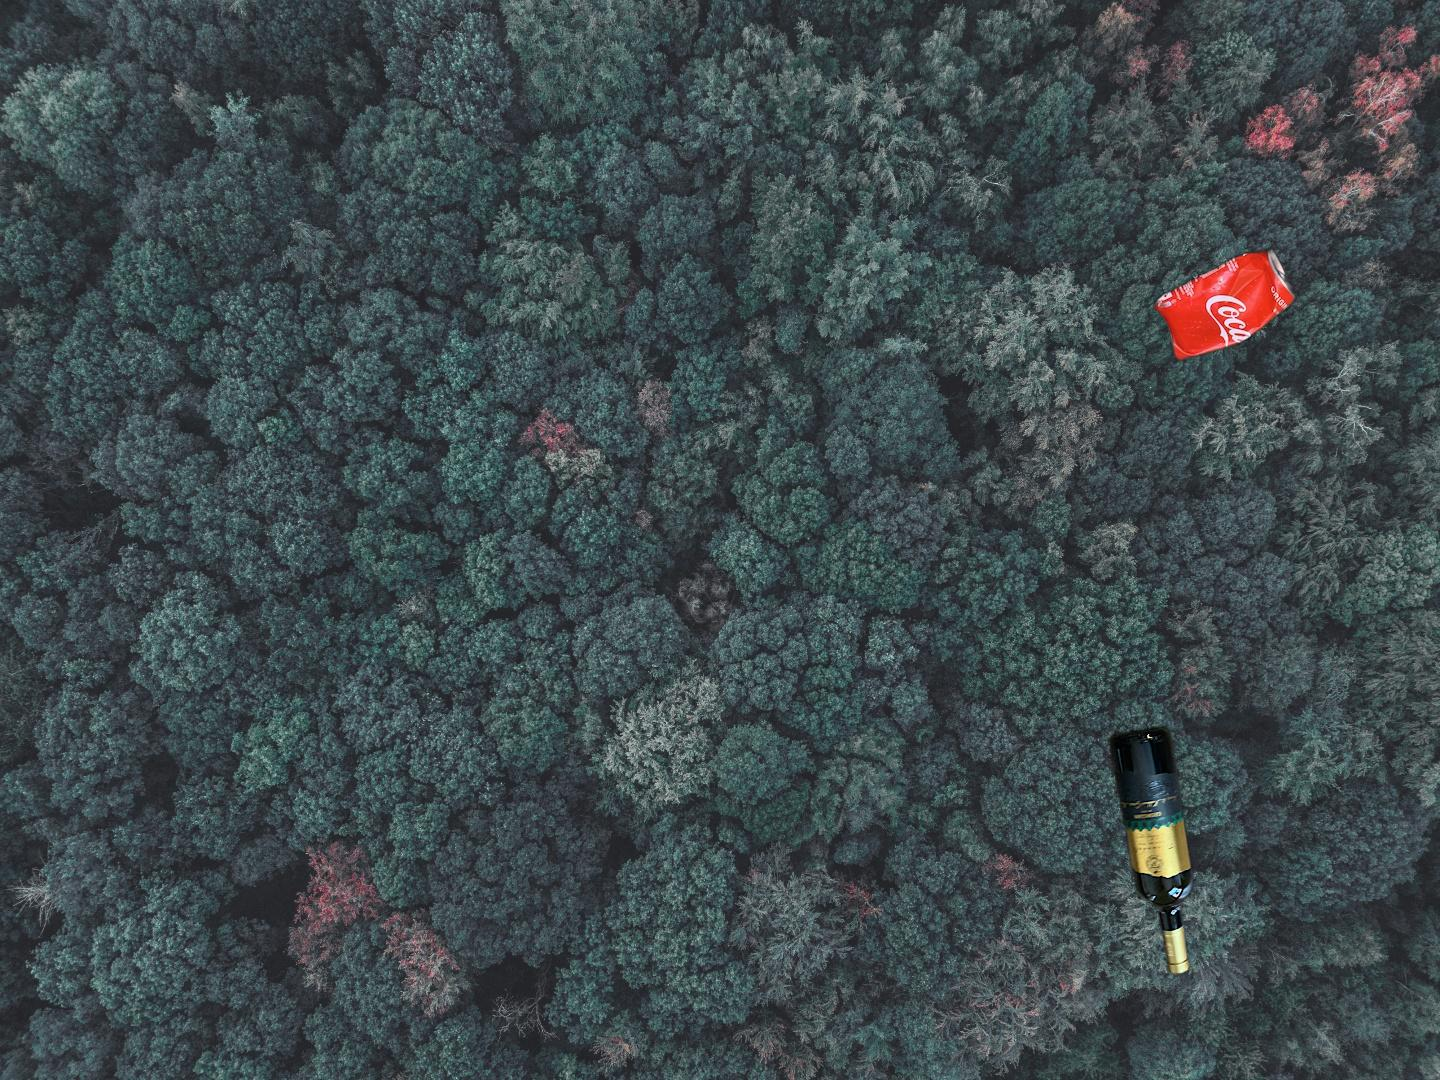glass: (1106, 722, 1198, 980)
metal-cans: (1078, 219, 1440, 802)
